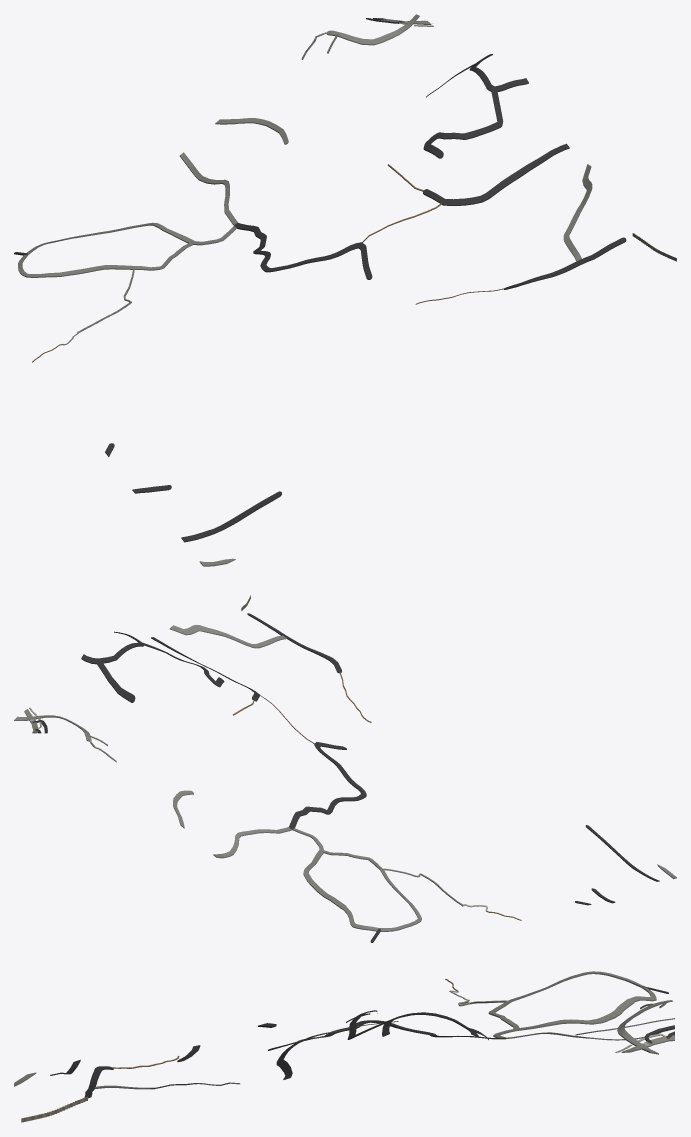
3 renders of one model, top to bottom at view 1: azimuth 30°, elevation 25°; view 2: azimuth 150°, elevation 25°; view 3: azimuth 270°, elevation 25°, orthographic. The views are drawn at different scales.
Bounding box in the file's own units: 589 × 318 × 585.
